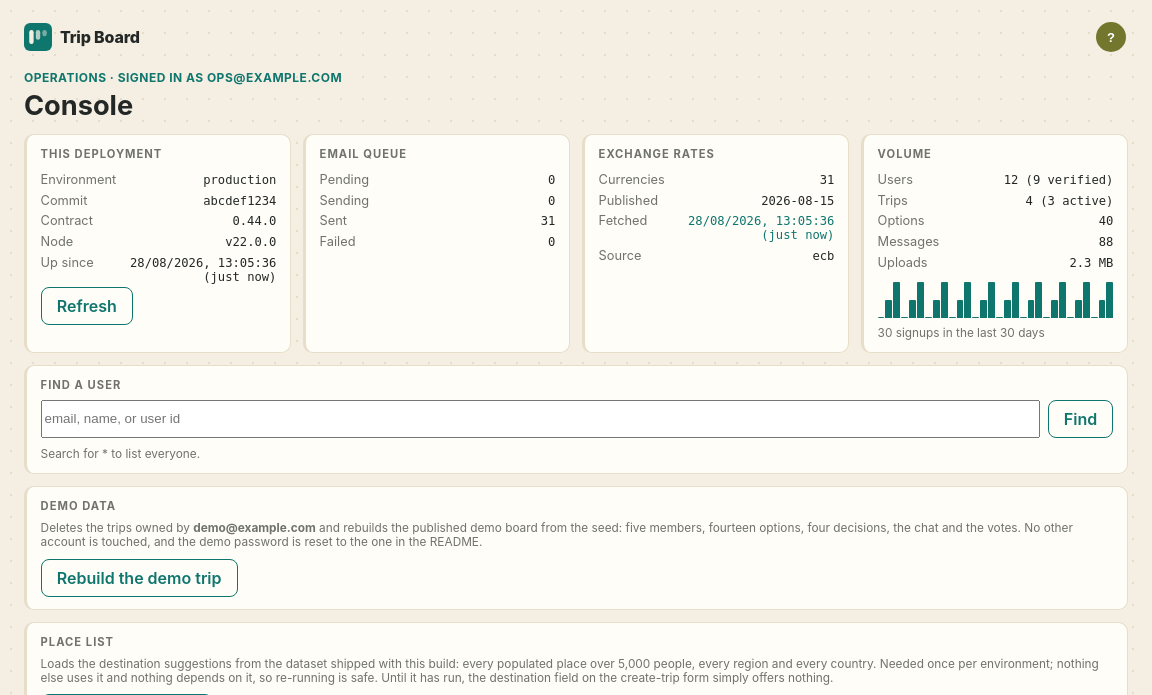
Test: finding one person › shows their verification state and offers the two ways out
The width and height of the screenshot is (1152, 695).
Expected: the text "abcdef1234" is shown, [203,194,276,208]
Type "stuck" into the field with placeholder "email, name, or user id" at (540, 418), box [41,400,1040,438]
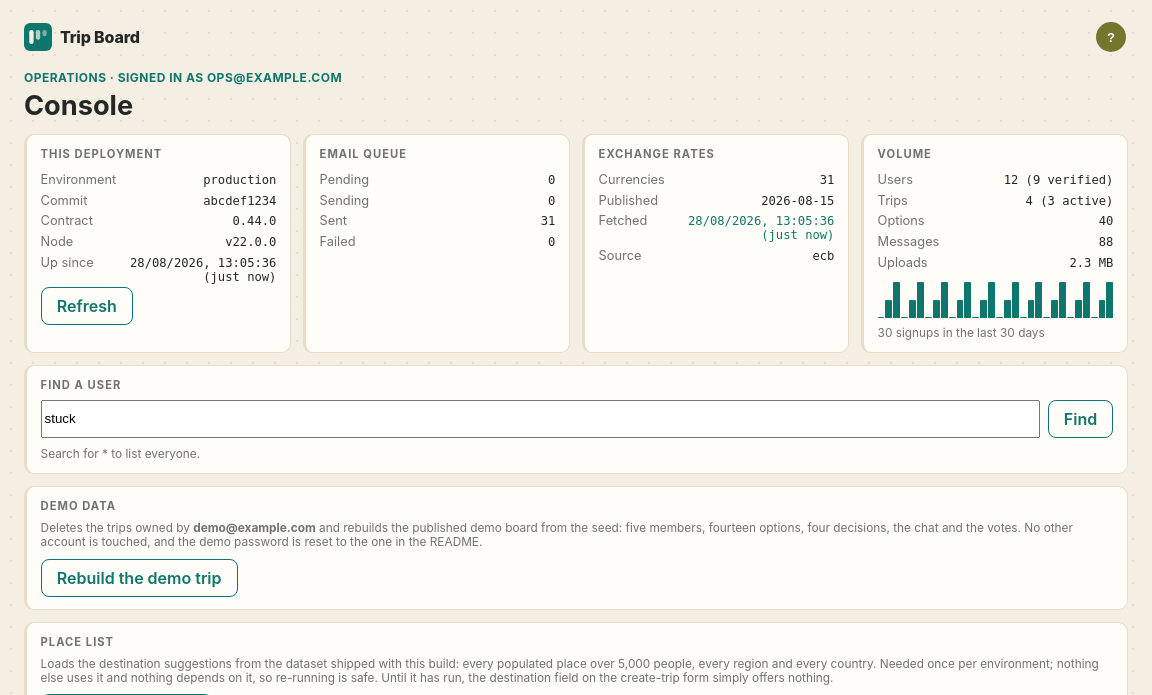
Click the button "Find" at (1081, 418), box [1048,400,1114,438]
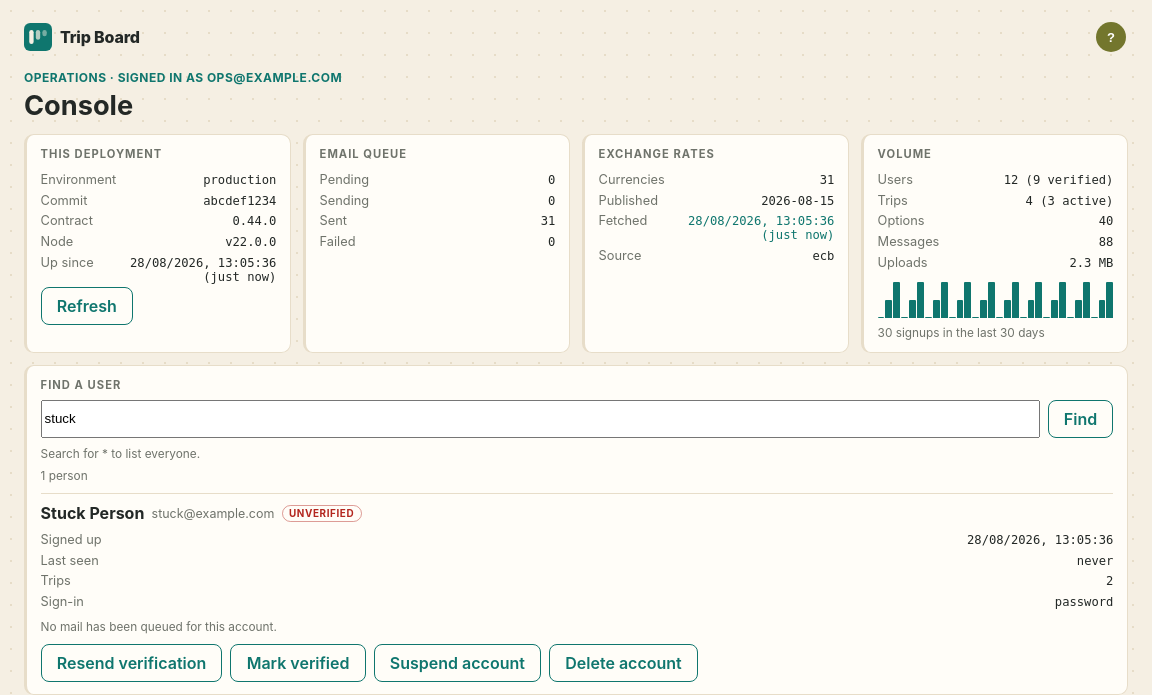
Now the text "stuck@example.com" is shown, box [152,506,274,521]
Now the text "Unverified" is shown, box [282,505,362,522]
Now the button "Resend verification" is shown, box [41,644,222,682]
